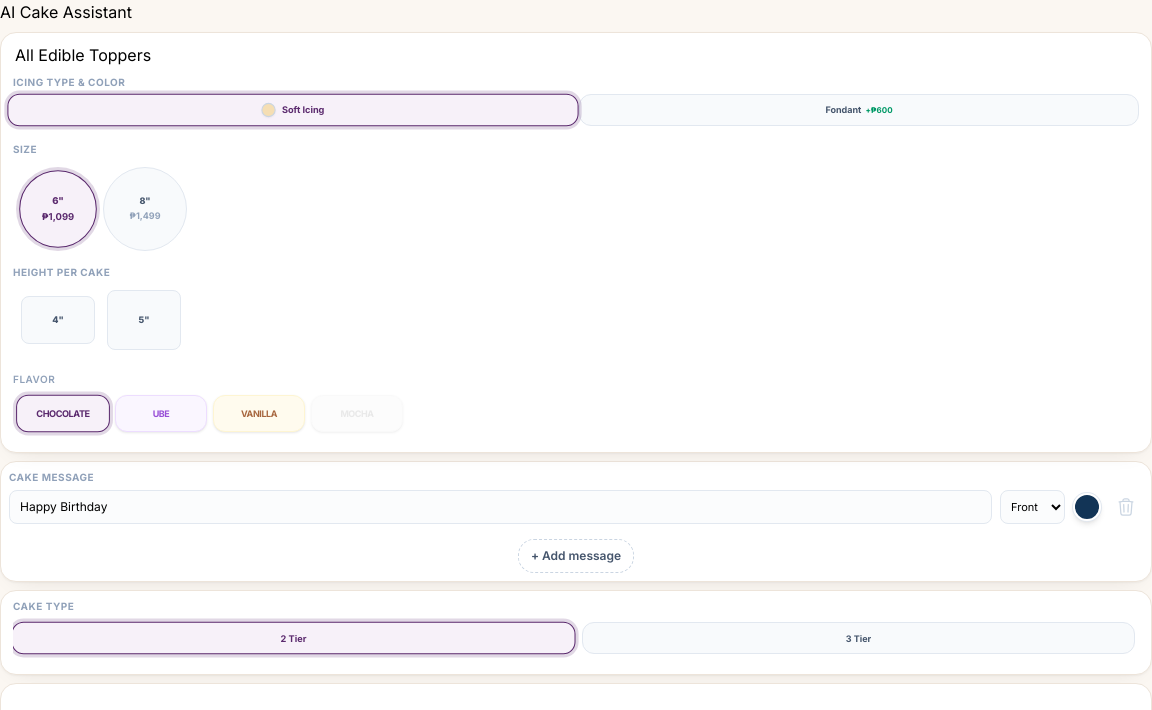
Test: CustomizingStepSummarySections › renders cake-design quick actions at the top of Cake Options while keeping AI chat outside
// Open the floating color picker
Click the button "Soft Icing" at [293, 110], box top-left (7, 94), bottom-right (579, 126)
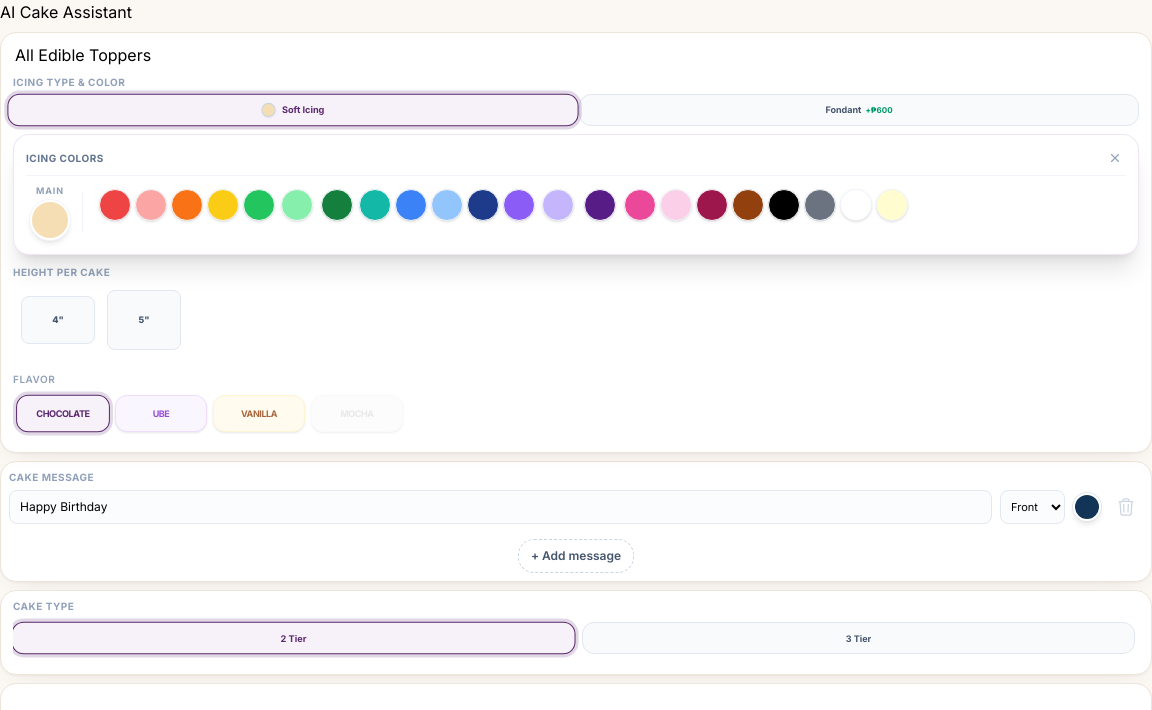
Expected: the button "3 Tier" is shown, top-left (582, 622), bottom-right (1135, 654)
Expected: the button titled "red" is shown, top-left (99, 188), bottom-right (131, 235)
